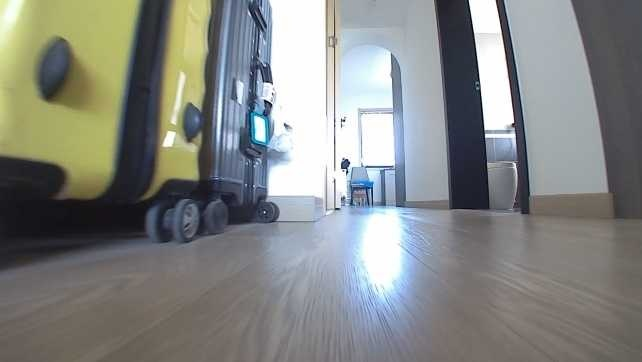toilet: (481, 159, 519, 213)
